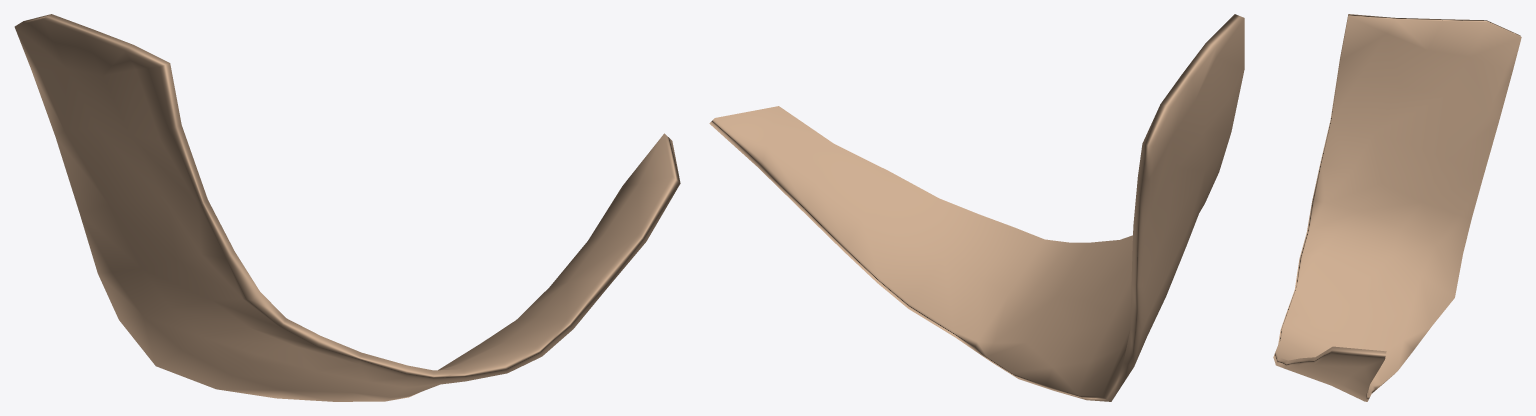
3 renders of one model, left to right at view 1: azimuth 30°, elevation 25°; view 2: azimuth 150°, elevation 25°; view 3: azimuth 270°, elevation 25°, orthographic. The views are drawn at different scales.
Visible parts, largest first — view 1: 右侧小腿十字韧带; view 2: 右侧小腿十字韧带; view 3: 右侧小腿十字韧带.
Boxes of the visible parts, x1,y1,x2,y2 form: 右侧小腿十字韧带: [14, 14, 680, 401]; 右侧小腿十字韧带: [709, 14, 1244, 401]; 右侧小腿十字韧带: [1273, 14, 1521, 401].
Size of the model in its own units: 0.0779 by 0.0543 by 0.0419.
